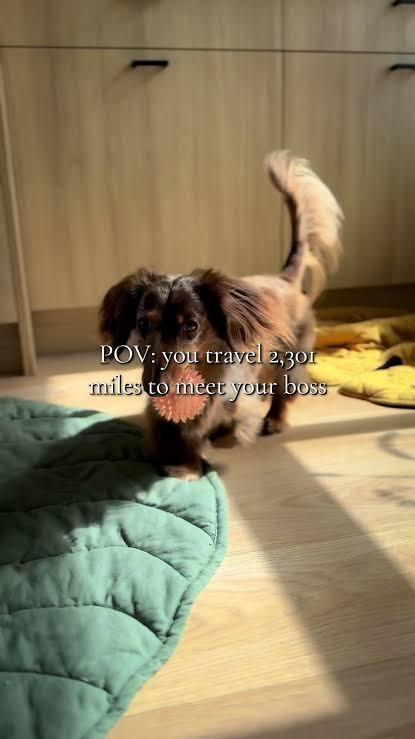adult_dog: (93, 145, 347, 481)
